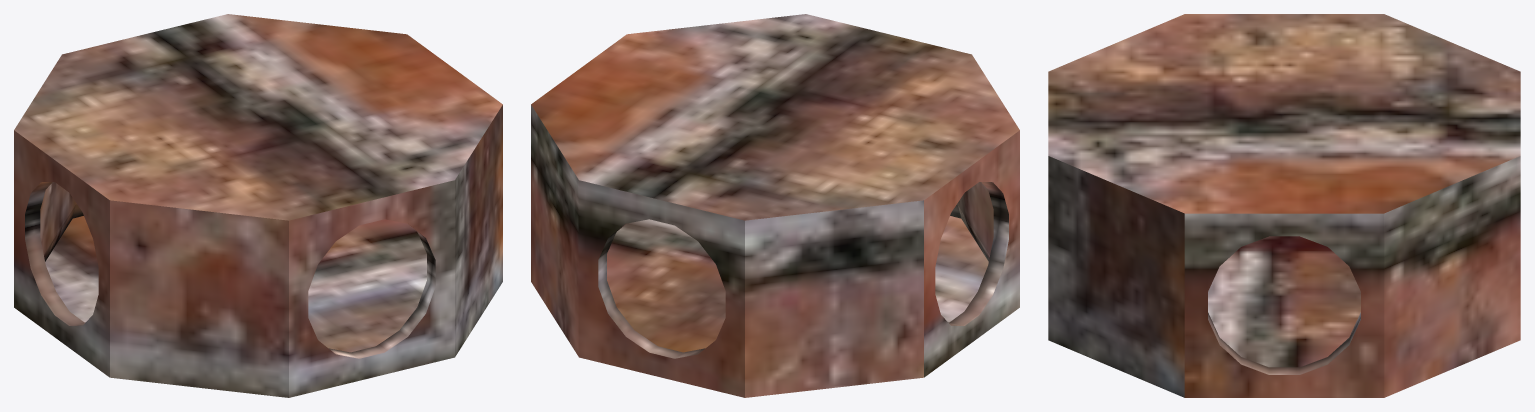
The model's file is Sewer_Room_02.fbx.
3 renders of one model, left to right at view 1: azimuth 30°, elevation 25°; view 2: azimuth 150°, elevation 25°; view 3: azimuth 270°, elevation 25°, orthographic. The views are drawn at different scales.
Visible parts, largest first — view 1: Room; view 2: Room; view 3: Room.
Part boxes in pixels (<box>): Room: <box>14,14,502,397</box>; Room: <box>531,14,1019,397</box>; Room: <box>1048,14,1520,397</box>.
Size of what is drawn, in the model's own units: 2723 by 1174 by 2723.
